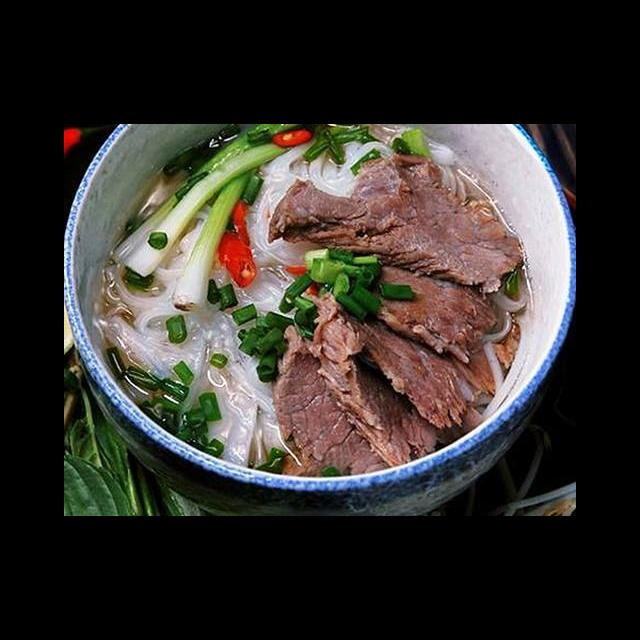banh pho: (100, 199, 292, 473), (238, 132, 396, 223)
pho bo: (68, 152, 576, 516)
thit bo: (263, 147, 527, 300), (301, 286, 487, 474), (313, 286, 525, 432), (268, 317, 403, 477), (337, 251, 504, 367)
